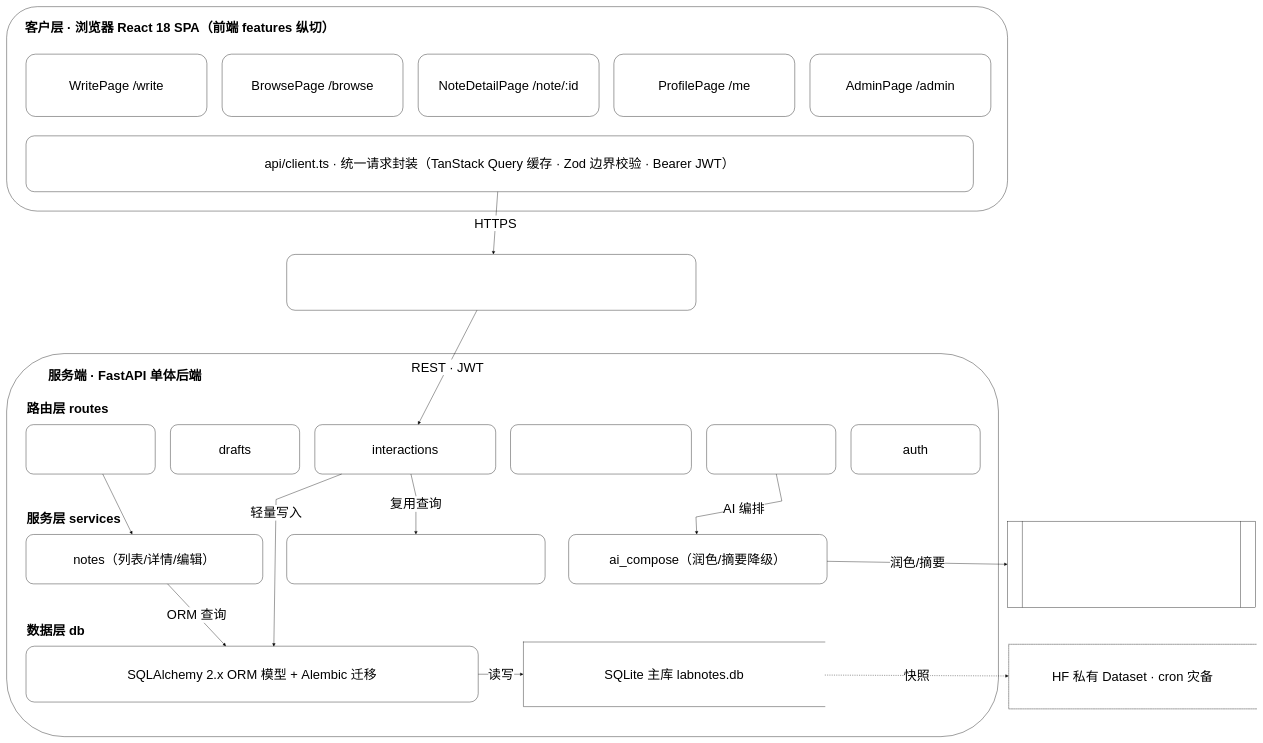
Image size: 1263x743. Some labels were removed from this diagram. The shapes that lost their labels are listed below. From the top down, each one's centre as x and y in pixels, then its label:
(x=491, y=282): nginx 反向代理（静态资源直出 + API 反向代理）
(x=90, y=449): notes
(x=600, y=449): collections
(x=771, y=449): ai
(x=415, y=559): comments（评论 keyset 分页）
(x=1131, y=564): 外部 AI 服务 DeepSeek · OpenAI 兼容
